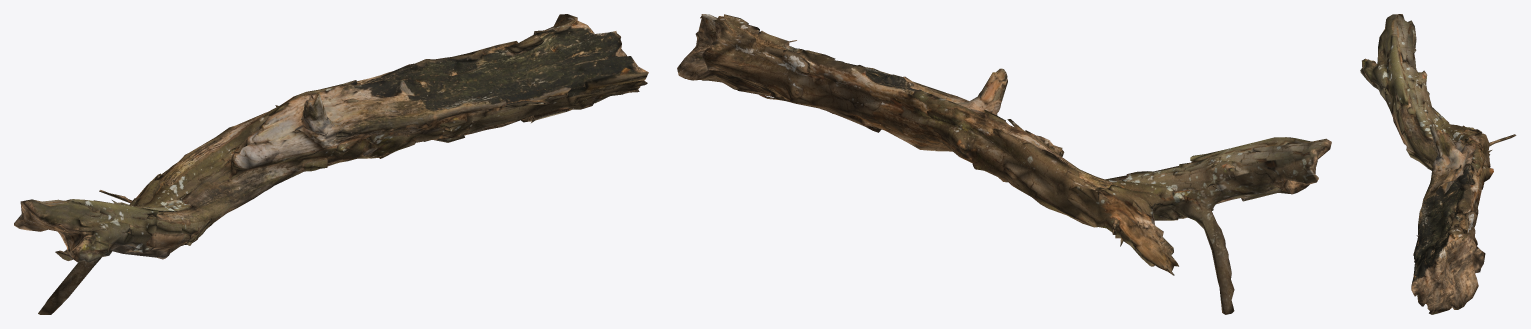
File: dead_tree_trunk_02.glb
The picture shows the model from 3 angles, left to right: view 1: azimuth 30°, elevation 25°; view 2: azimuth 150°, elevation 25°; view 3: azimuth 270°, elevation 25°; orthographic projection. The views are drawn at different scales.
Parts seen in each view (by area): view 1: dead_tree_trunk_02; view 2: dead_tree_trunk_02; view 3: dead_tree_trunk_02.
Part boxes in pixels (<box>): dead_tree_trunk_02: <box>14,14,648,314</box>; dead_tree_trunk_02: <box>677,14,1331,314</box>; dead_tree_trunk_02: <box>1360,14,1516,314</box>.
Bounding box in the file's own units: 4.05 × 1.05 × 1.05.
Materials: 1 (1 with a texture image).
